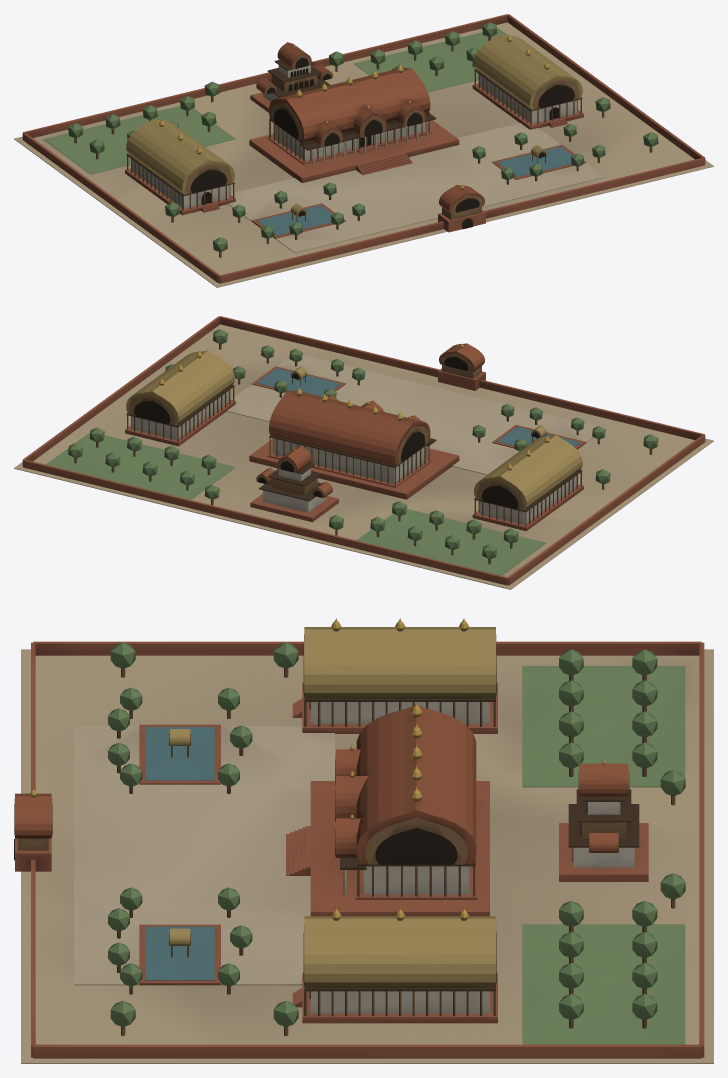
Rendered from mauryan-palace.glb.
3 views of the same model, one above another, from view 1: azimuth 30°, elevation 25°; view 2: azimuth 150°, elevation 25°; view 3: azimuth 270°, elevation 25° (orthographic). The views are drawn at different scales.
Visible parts, largest first — view 1: p0_platforms, p1_halls, p3_parks and ponds, p2_pillars and roofs; view 2: p0_platforms, p1_halls, p3_parks and ponds, p2_pillars and roofs; view 3: p0_platforms, p1_halls, p3_parks and ponds, p2_pillars and roofs.
Boxes of the visible parts, x1,y1,x2,y2 form: p0_platforms: [14, 14, 713, 287]; p1_halls: [125, 34, 583, 232]; p3_parks and ponds: [43, 22, 658, 257]; p2_pillars and roofs: [256, 42, 484, 213]; p0_platforms: [14, 316, 713, 589]; p1_halls: [125, 350, 583, 531]; p3_parks and ponds: [46, 329, 658, 575]; p2_pillars and roofs: [256, 343, 484, 501]; p0_platforms: [21, 641, 713, 1063]; p1_halls: [14, 618, 648, 1023]; p3_parks and ponds: [108, 642, 685, 1044]; p2_pillars and roofs: [14, 745, 639, 894].
Bounding box in the file's own units: 240 × 30.54 × 172.
